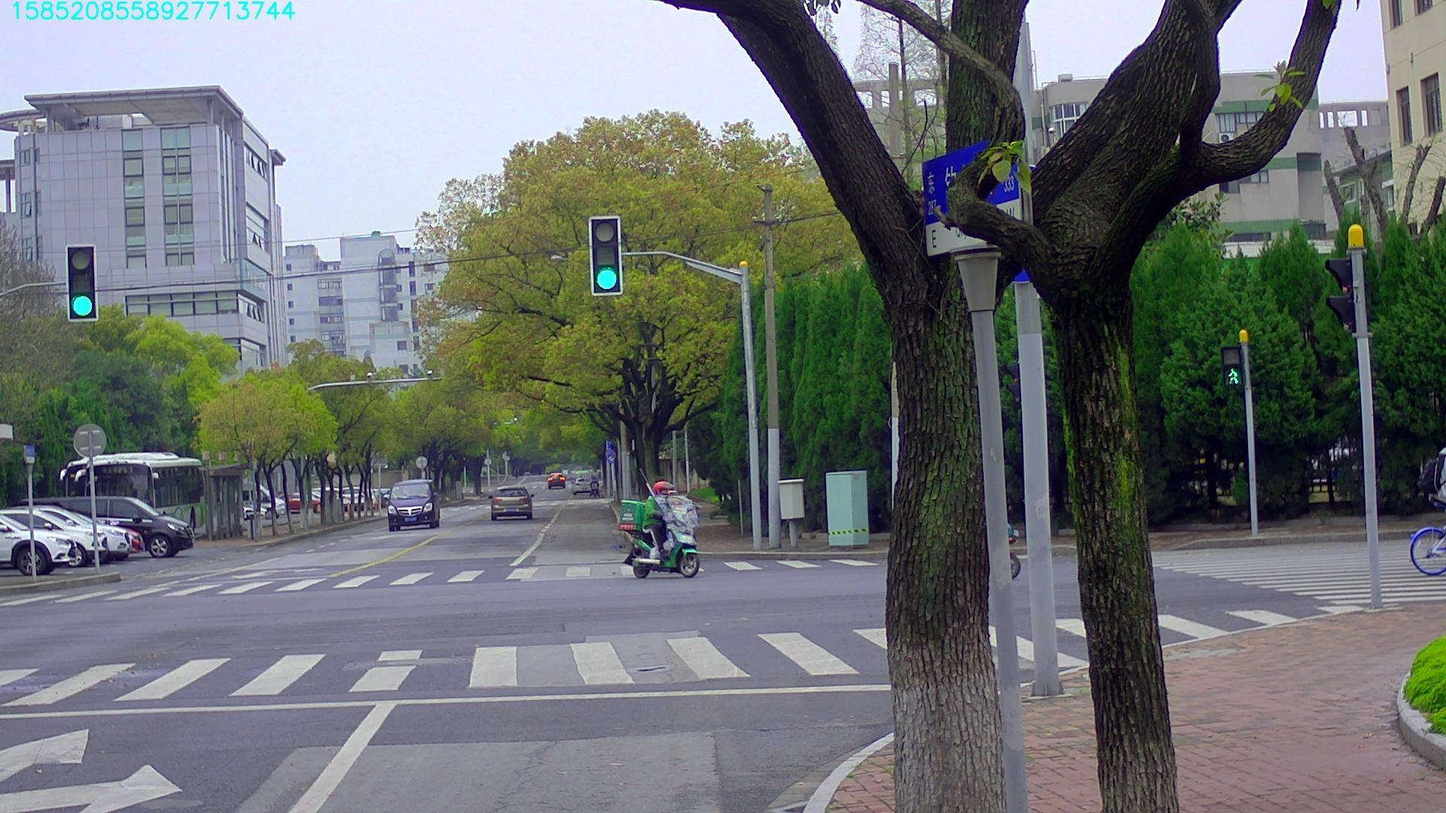green: (590, 218, 621, 293), (66, 245, 96, 320)
